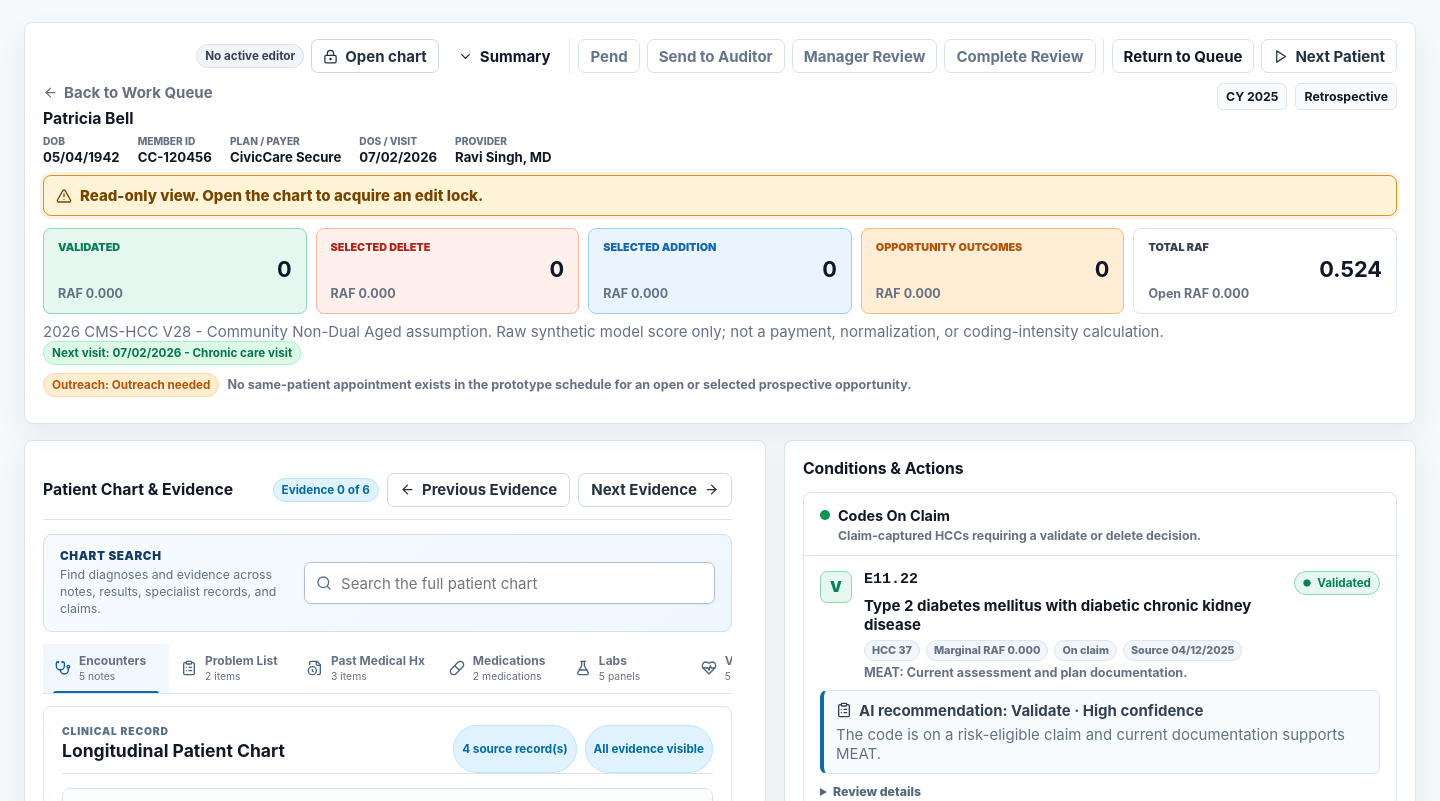
Test case: ReviewPage evidence navigation › keeps the document-defined actions available during prior-year reconciliation
The image size is (1440, 801).
Click the button "Open chart" at (375, 56), box [311,39,439,73]
(page scrolled)
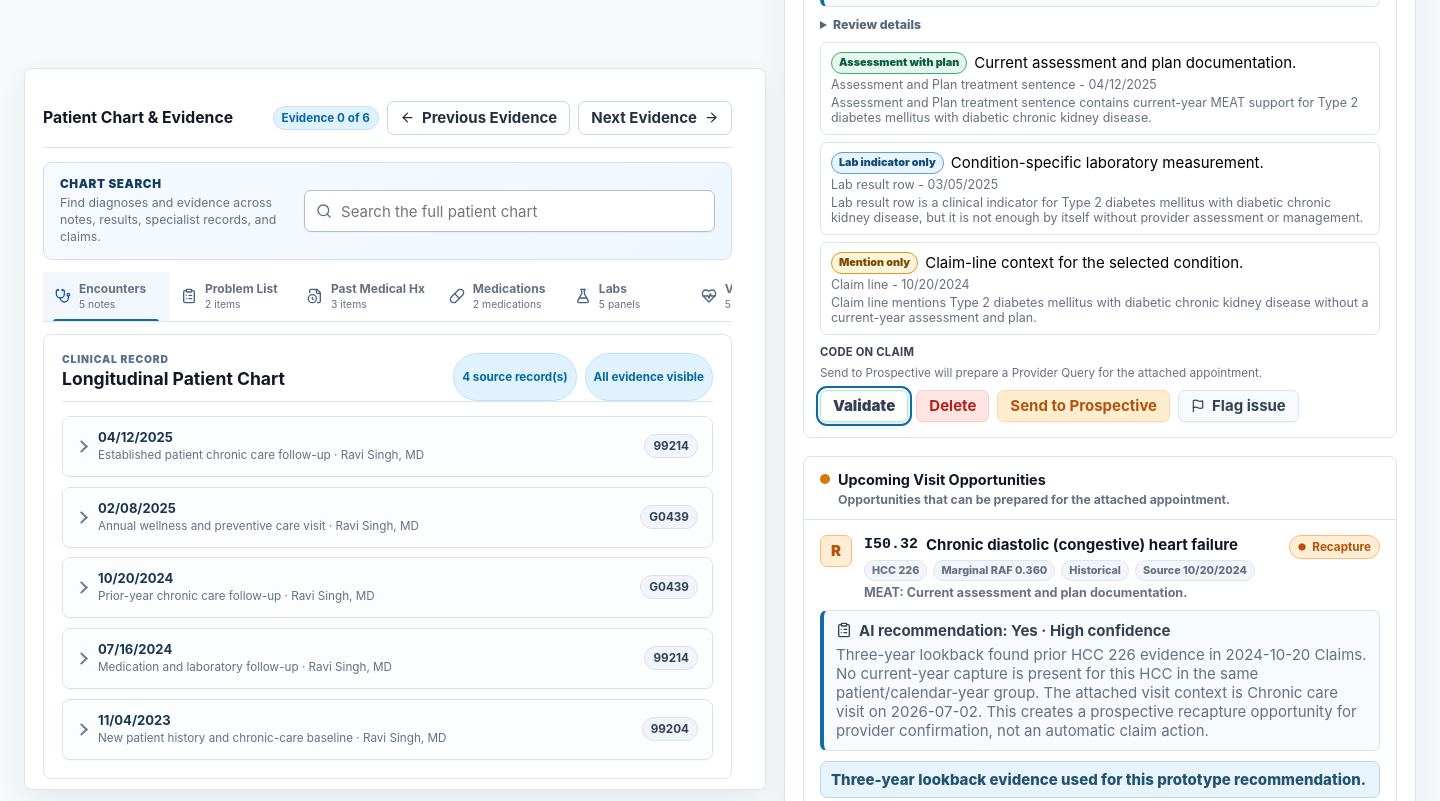
Check: the button "Validate" is enabled
Check: the button "Delete" is enabled, box [916,390,989,422]
Check: the button "Send to Prospective" is enabled, box [997,390,1170,422]
Click the button "Validate" at (864, 406), box [820,390,908,422]
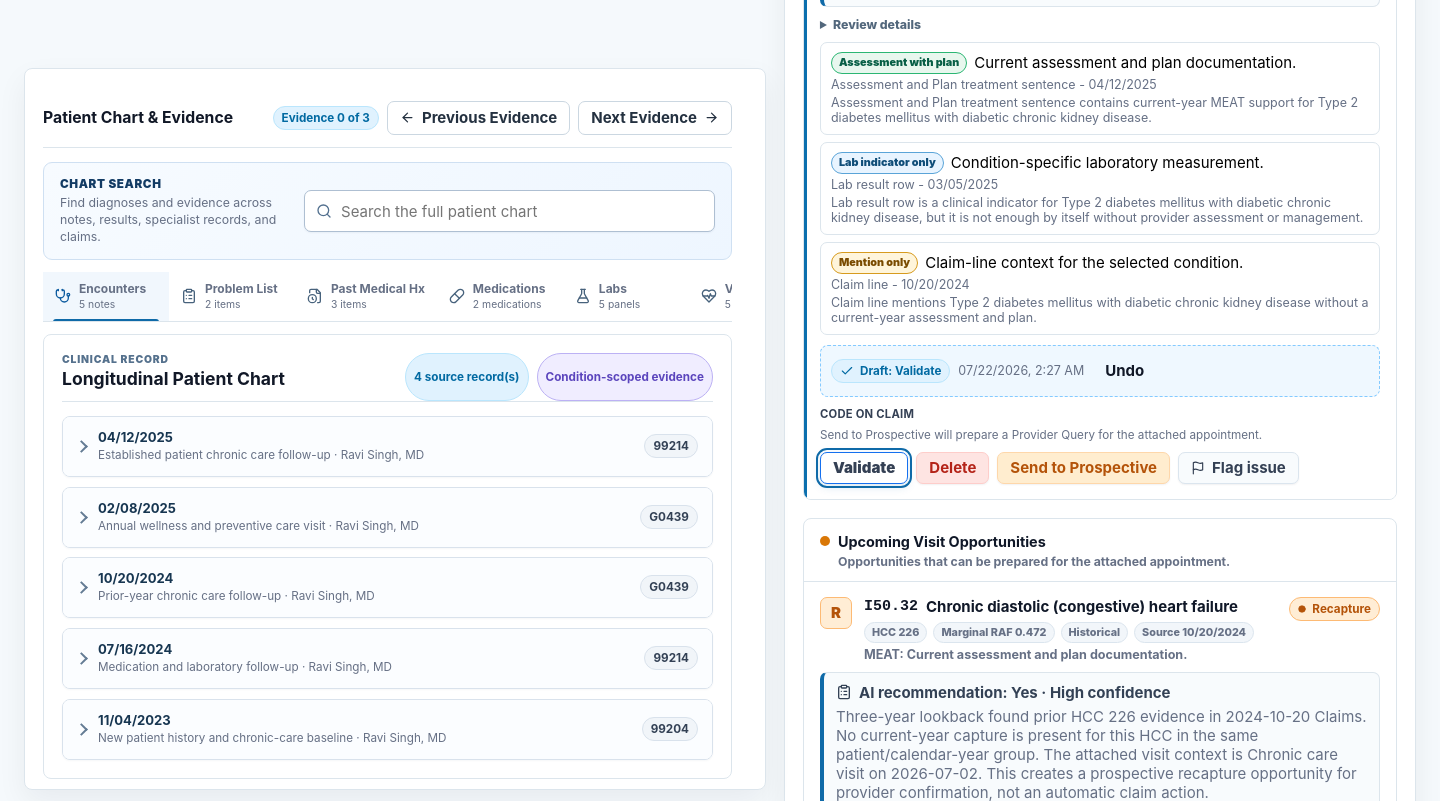
Check: the text "Draft: Validate" is shown, box [831,359,950,383]
